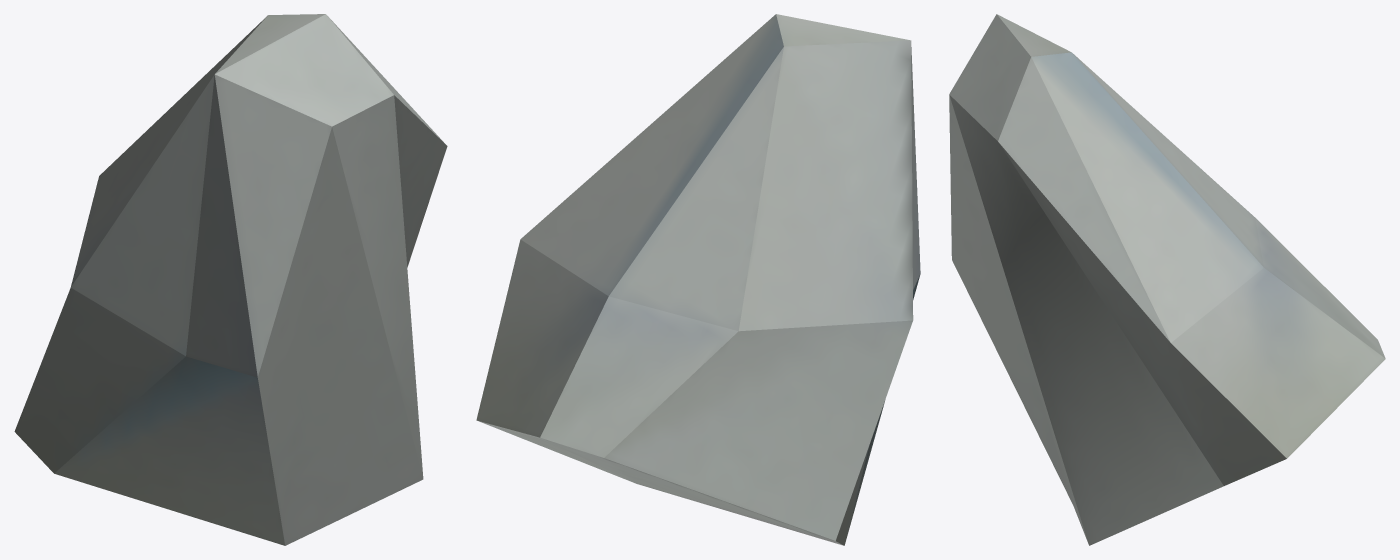
3 renders of one model, left to right at view 1: azimuth 30°, elevation 25°; view 2: azimuth 150°, elevation 25°; view 3: azimuth 270°, elevation 25°, orthographic. The views are drawn at different scales.
Size of the model in its own units: 0.4608 by 0.5861 by 0.5099.
Materials: 1 (1 with a texture image).
